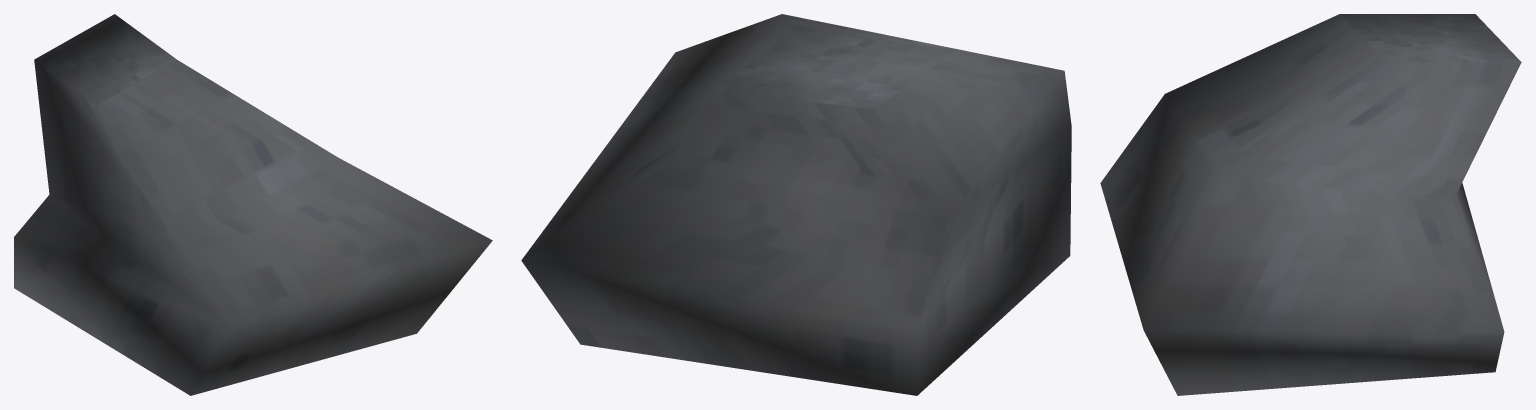
File: pierre1.glb
The picture shows the model from 3 angles, left to right: view 1: azimuth 30°, elevation 25°; view 2: azimuth 150°, elevation 25°; view 3: azimuth 270°, elevation 25°; orthographic projection. The views are drawn at different scales.
Parts seen in each view (by area): view 1: Cube.005; view 2: Cube.005; view 3: Cube.005.
Boxes of the visible parts, x1,y1,x2,y2 form: Cube.005: (14,14,492,395); Cube.005: (521,14,1071,395); Cube.005: (1100,14,1521,395).
Bounding box in the file's own units: 3.67 × 2.52 × 3.73.
1 material, 1 textured.
